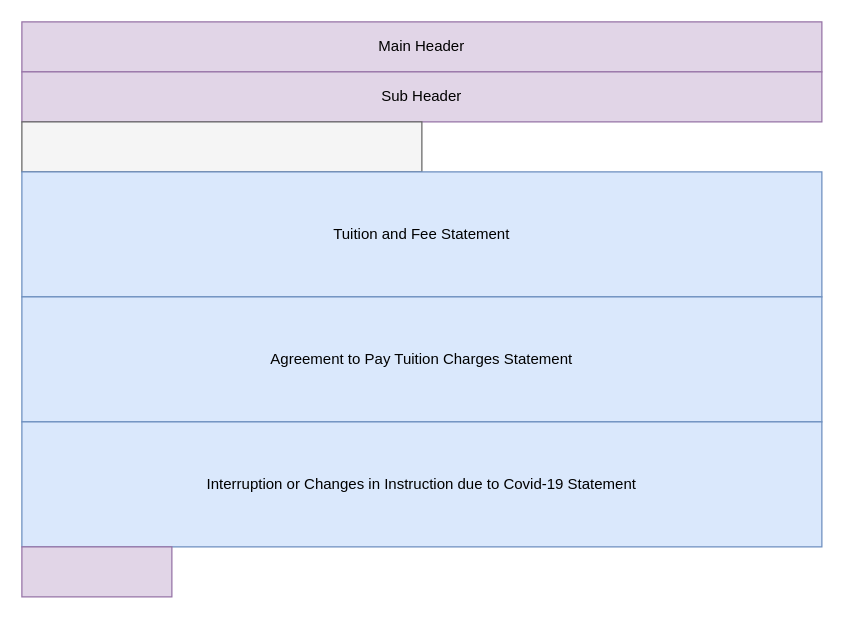
Some shapes in this 844 by 619 pixel diagram are drawn without their labels. The box of each missing label's shape, as (x1, y1, x2, y2) in pixels:
Agree for Semester: (21, 546, 172, 597)
Select The Semester: (21, 121, 422, 172)
